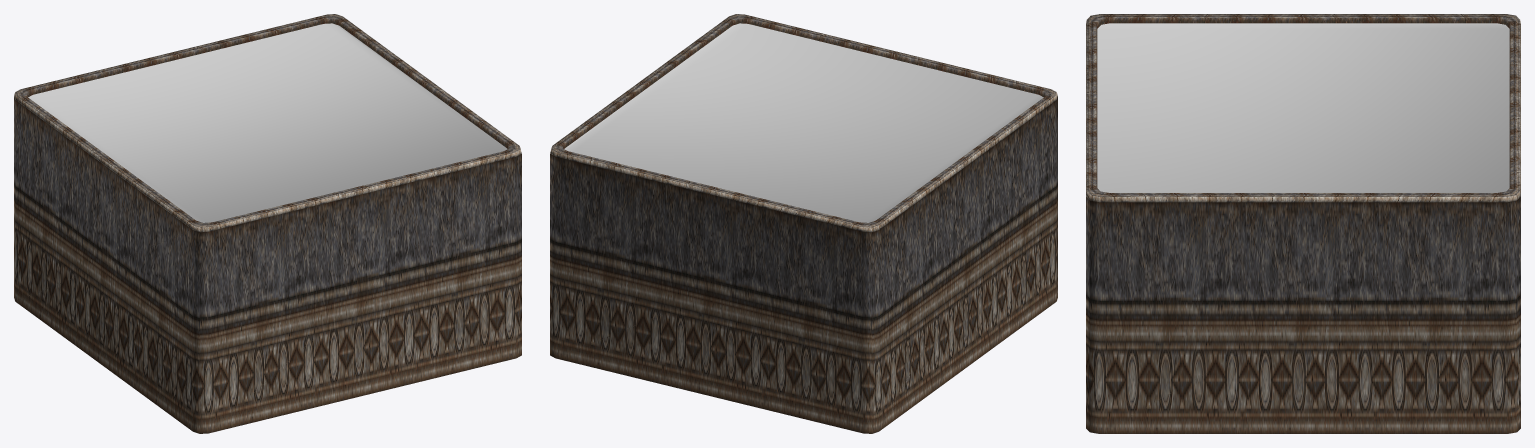
File: prf_env_bld_BaseBuild_BaseTiny.fbx
The picture shows the model from 3 angles, left to right: view 1: azimuth 30°, elevation 25°; view 2: azimuth 150°, elevation 25°; view 3: azimuth 270°, elevation 25°; orthographic projection. The views are drawn at different scales.
Parts seen in each view (by area): view 1: prf_env_bld_BaseBuild_BaseTiny; view 2: prf_env_bld_BaseBuild_BaseTiny; view 3: prf_env_bld_BaseBuild_BaseTiny.
Boxes of the visible parts, x1,y1,x2,y2 form: prf_env_bld_BaseBuild_BaseTiny: (14,14,521,433); prf_env_bld_BaseBuild_BaseTiny: (550,14,1057,433); prf_env_bld_BaseBuild_BaseTiny: (1086,14,1520,433).
Bounding box in the file's own units: 350 × 210 × 350.
